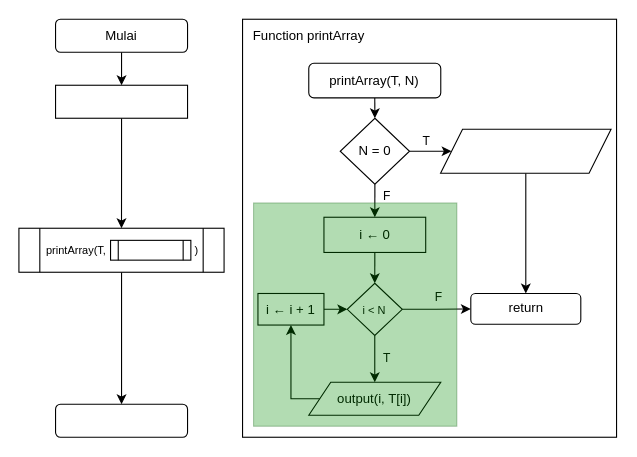
Some shapes in this 637 by 457 pixel diagram are drawn without their labels. The box of each missing label's shape, as (x1, y1, x2, y2) in pixels:
len(T): (109, 239, 191, 260)
output("Array Kosong"): (439, 128, 611, 173)
Selesai: (54, 403, 188, 437)
T ← [5, 4, 3, 2, 1]: (54, 84, 188, 118)
